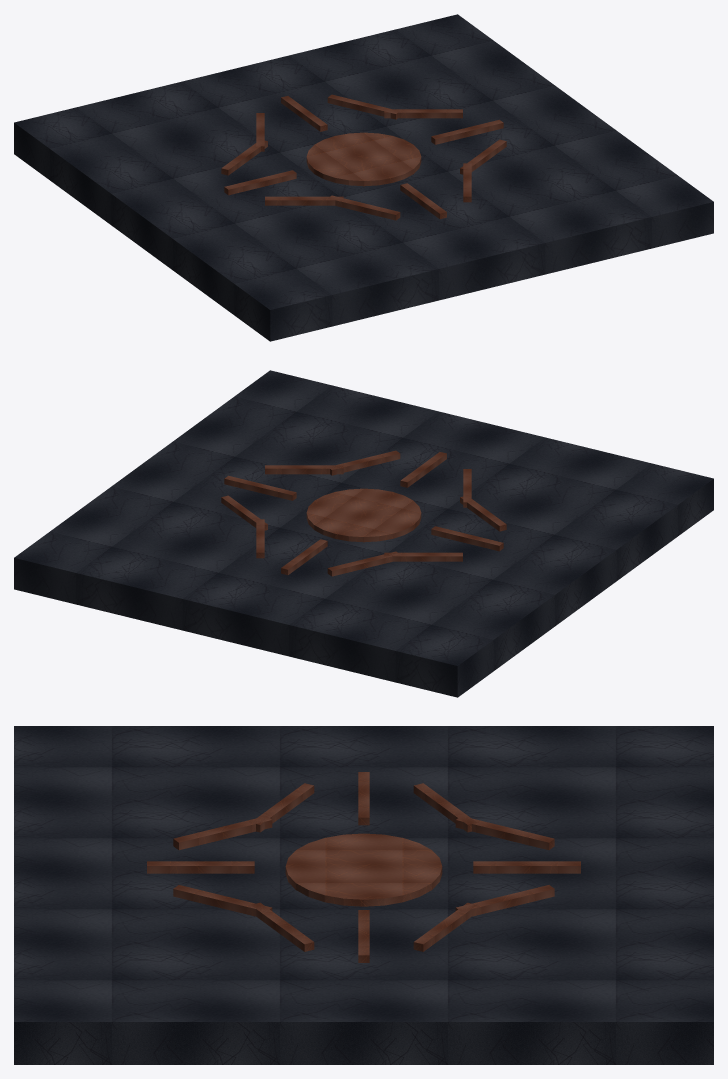
The model's file is blackstone-floor-tile.glb.
3 renders of one model, top to bottom at view 1: azimuth 30°, elevation 25°; view 2: azimuth 150°, elevation 25°; view 3: azimuth 270°, elevation 25°, orthographic. The views are drawn at different scales.
Visible parts, largest first — view 1: Floor_Slab, Floor_SunDisc, Floor_Sun_Ray_1, Floor_Sun_Ray_7, Floor_Sun_Ray_12, Floor_Sun_Ray_6, Floor_Sun_Ray_5, Floor_Sun_Ray_11, Floor_Sun_Ray_4, Floor_Sun_Ray_10; view 2: Floor_Slab, Floor_SunDisc, Floor_Sun_Ray_2, Floor_Sun_Ray_8, Floor_Sun_Ray_1, Floor_Sun_Ray_7, Floor_Sun_Ray_3, Floor_Sun_Ray_9, Floor_Sun_Ray_4, Floor_Sun_Ray_10; view 3: Floor_Slab, Floor_SunDisc, Floor_Sun_Ray_4, Floor_Sun_Ray_10, Floor_Sun_Ray_5, Floor_Sun_Ray_11, Floor_Sun_Ray_9, Floor_Sun_Ray_3, Floor_Sun_Ray_2, Floor_Sun_Ray_8, Floor_Sun_Ray_12, Floor_Sun_Ray_6 (+2 smaller).
Part boxes in pixels (x1,y1,x2,y2): Floor_Slab: (14,14,713,341); Floor_SunDisc: (306,132,421,186); Floor_Sun_Ray_1: (431,119,503,144); Floor_Sun_Ray_7: (224,170,296,195); Floor_Sun_Ray_12: (384,109,462,118); Floor_Sun_Ray_6: (265,196,343,205); Floor_Sun_Ray_5: (328,195,400,220); Floor_Sun_Ray_11: (327,94,399,119); Floor_Sun_Ray_4: (400,183,446,219); Floor_Sun_Ray_10: (281,96,327,131); Floor_Slab: (14,370,713,697); Floor_SunDisc: (306,488,421,542); Floor_Sun_Ray_2: (265,465,343,474); Floor_Sun_Ray_8: (384,552,462,561); Floor_Sun_Ray_1: (224,475,296,500); Floor_Sun_Ray_7: (431,526,503,551); Floor_Sun_Ray_3: (330,450,400,475); Floor_Sun_Ray_9: (327,551,399,576); Floor_Sun_Ray_4: (400,452,446,487); Floor_Sun_Ray_10: (281,539,327,575); Floor_Slab: (14,726,713,1064); Floor_SunDisc: (285,833,442,906); Floor_Sun_Ray_4: (147,861,254,873); Floor_Sun_Ray_10: (473,861,580,873); Floor_Sun_Ray_5: (173,816,272,850); Floor_Sun_Ray_11: (455,885,554,916); Floor_Sun_Ray_9: (455,818,554,850); Floor_Sun_Ray_3: (173,885,272,916); Floor_Sun_Ray_2: (251,902,314,951); Floor_Sun_Ray_8: (413,783,476,832); Floor_Sun_Ray_12: (413,902,476,951); Floor_Sun_Ray_6: (255,783,314,832).
Size of the model in its own units: 5 by 0.42 by 5.
Materials: 2 (2 with a texture image).
